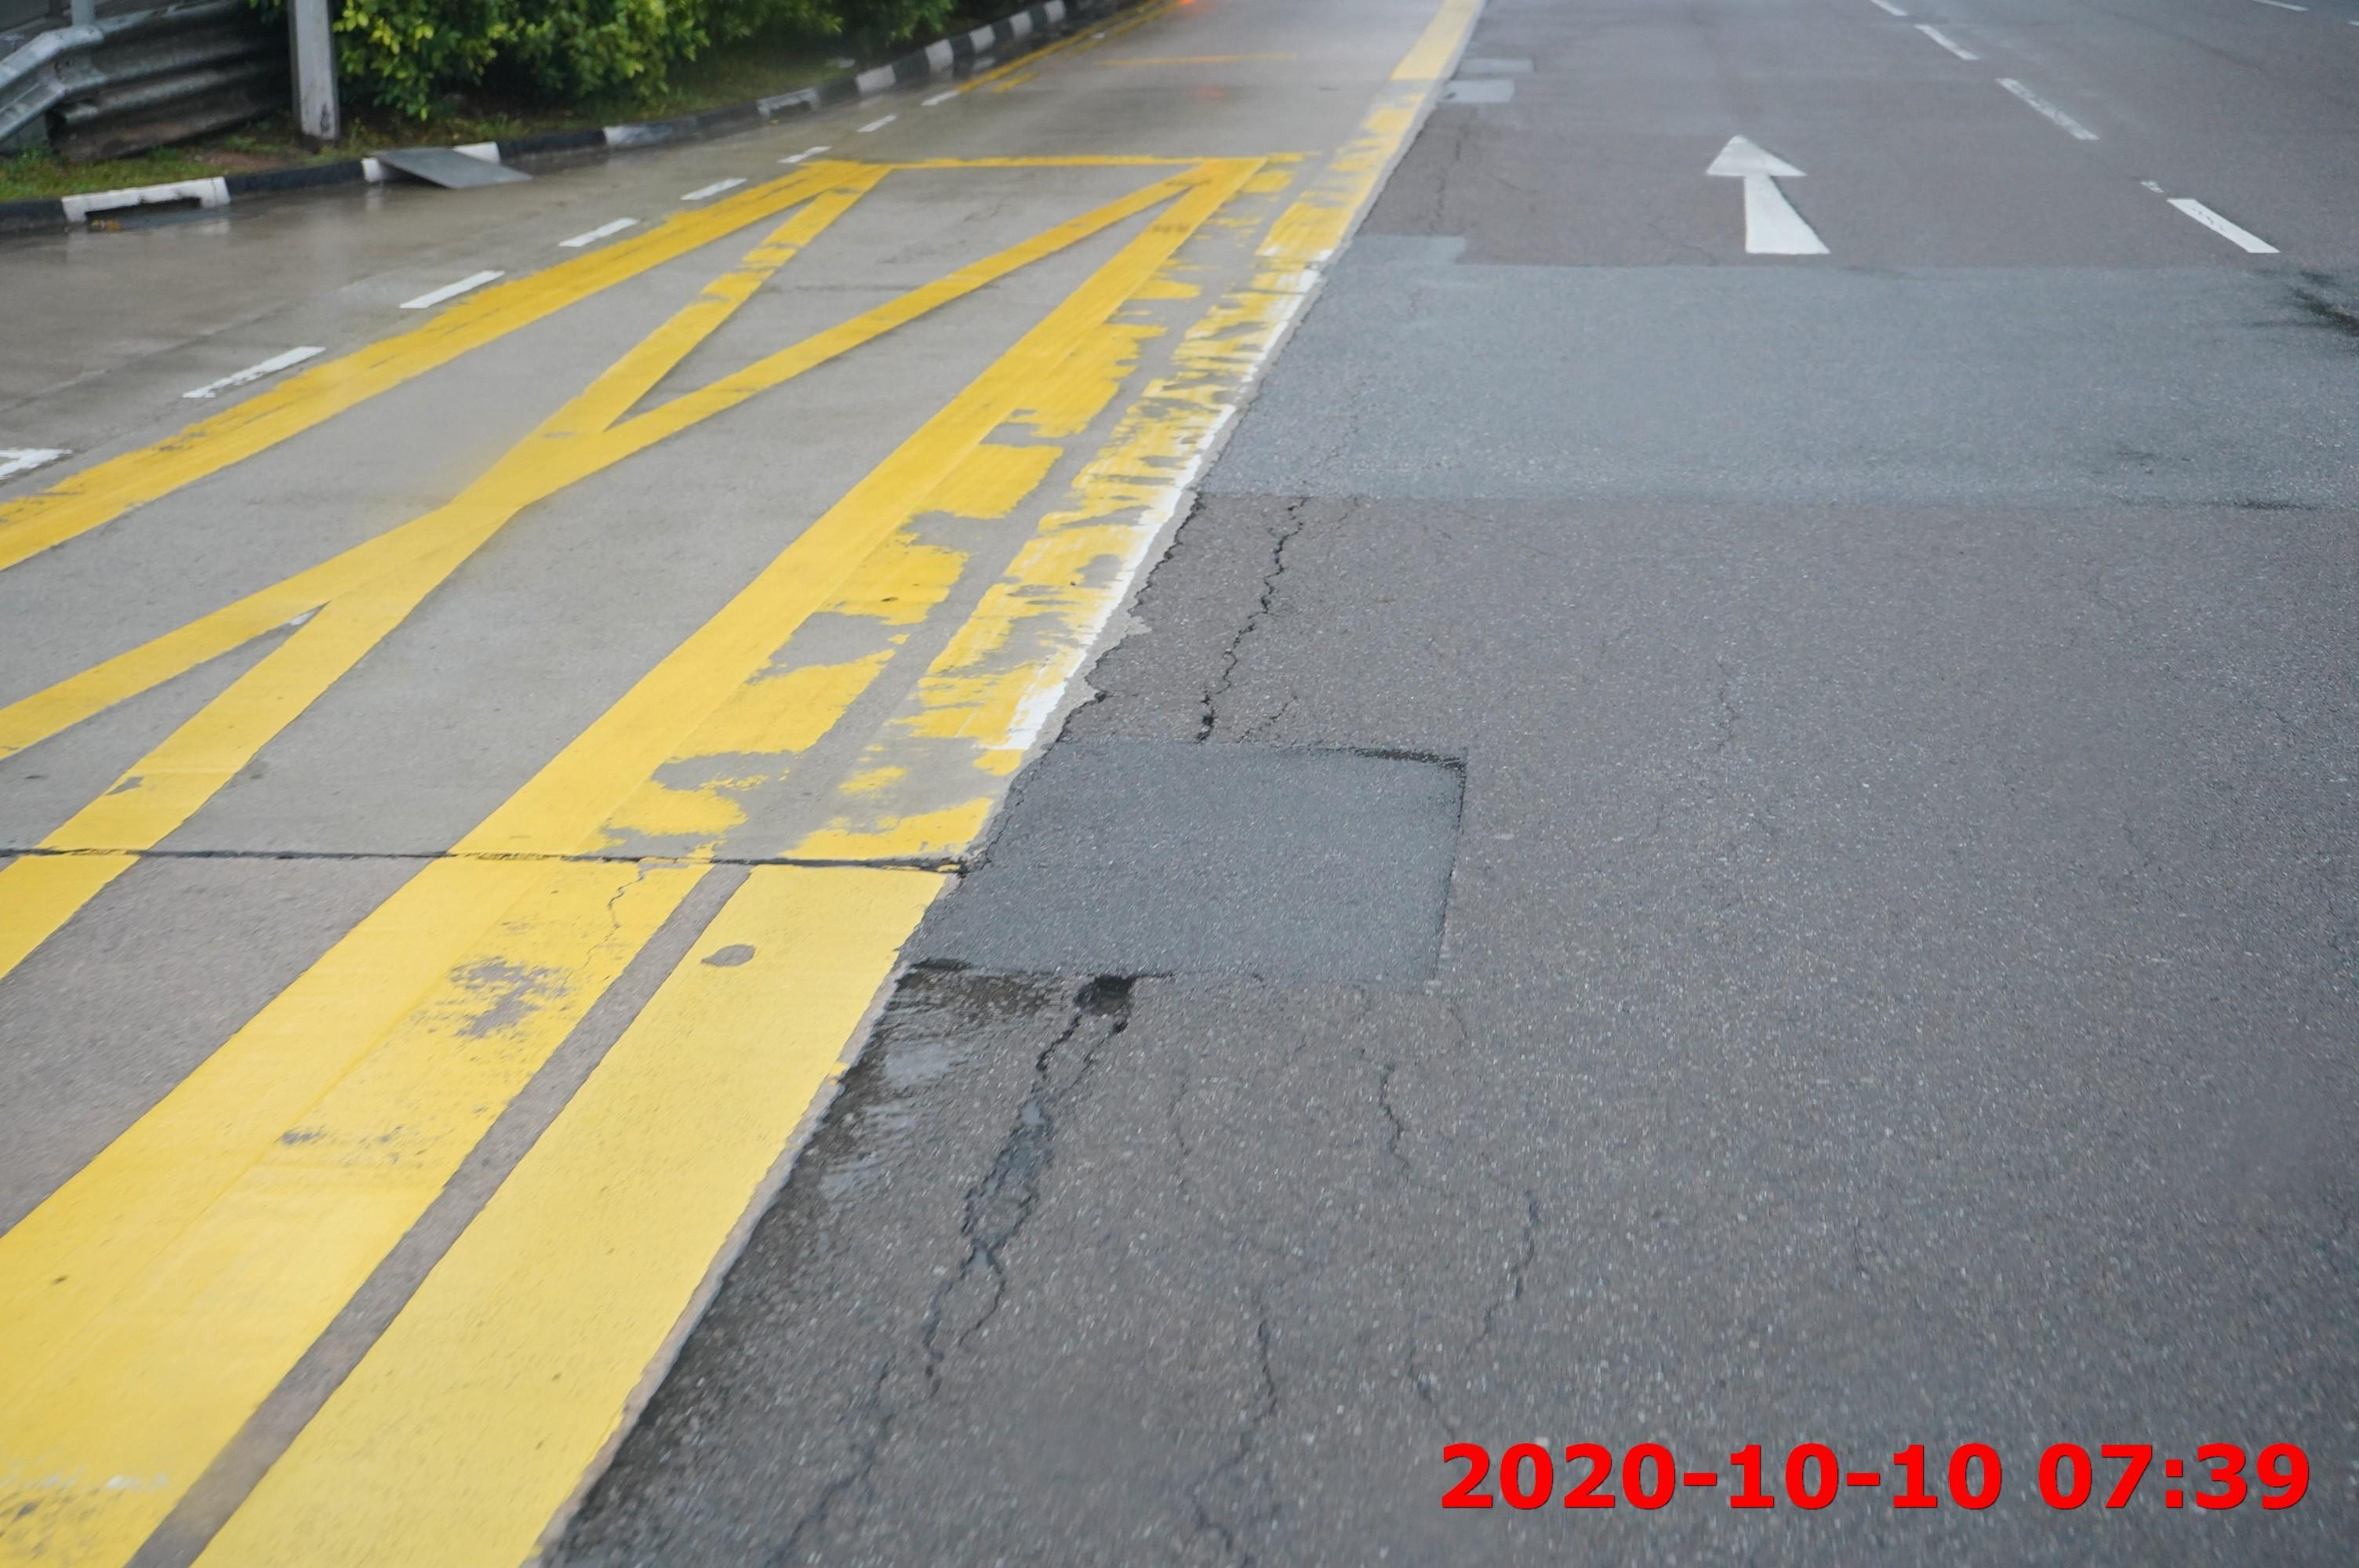peeling off premix: (1062, 966, 1155, 1038)
single crack: (1185, 497, 1314, 749), (1417, 116, 1475, 240)
